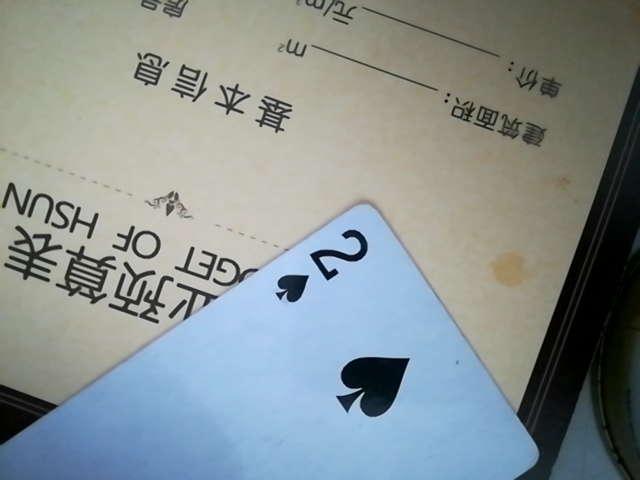ht 2: (0, 202, 556, 477)
